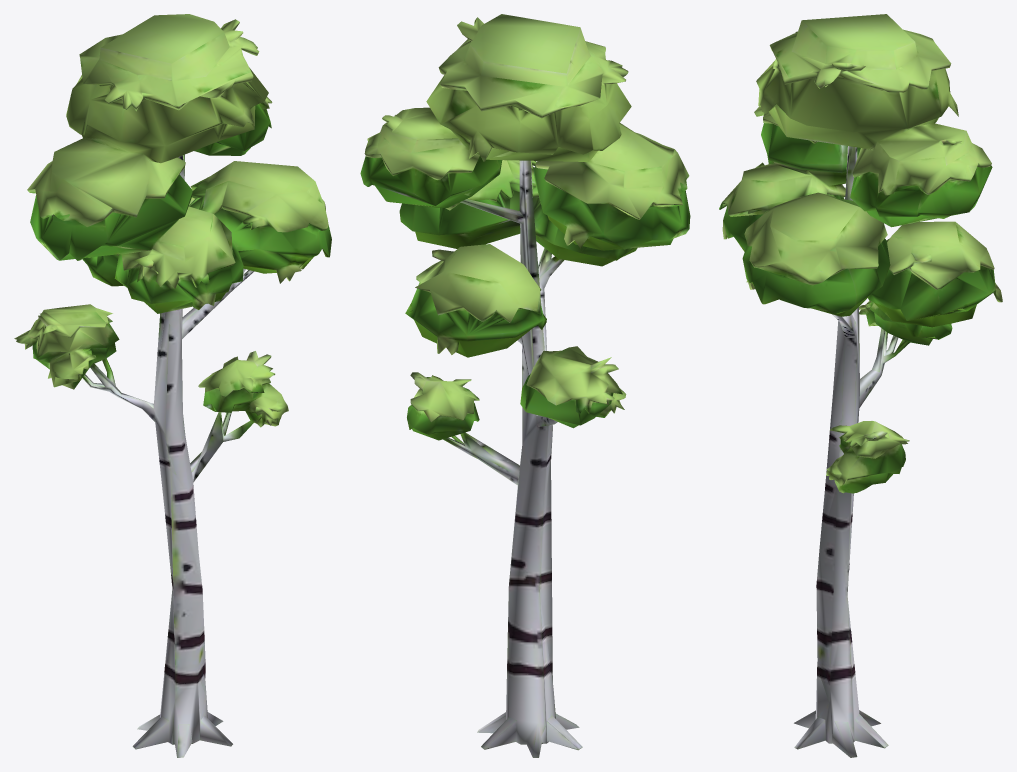
File: birch-a.glb
The picture shows the model from 3 angles, left to right: view 1: azimuth 30°, elevation 25°; view 2: azimuth 150°, elevation 25°; view 3: azimuth 270°, elevation 25°; orthographic projection.
Visible parts, largest first — view 1: node_0; view 2: node_0; view 3: node_0.
Part boxes in pixels (x1,y1,x2,y2): node_0: (14,14,331,757); node_0: (360,14,690,757); node_0: (719,14,1002,757).
Size of the model in its own units: 3.28 by 7.94 by 2.89.
Materials: 1 (1 with a texture image).
